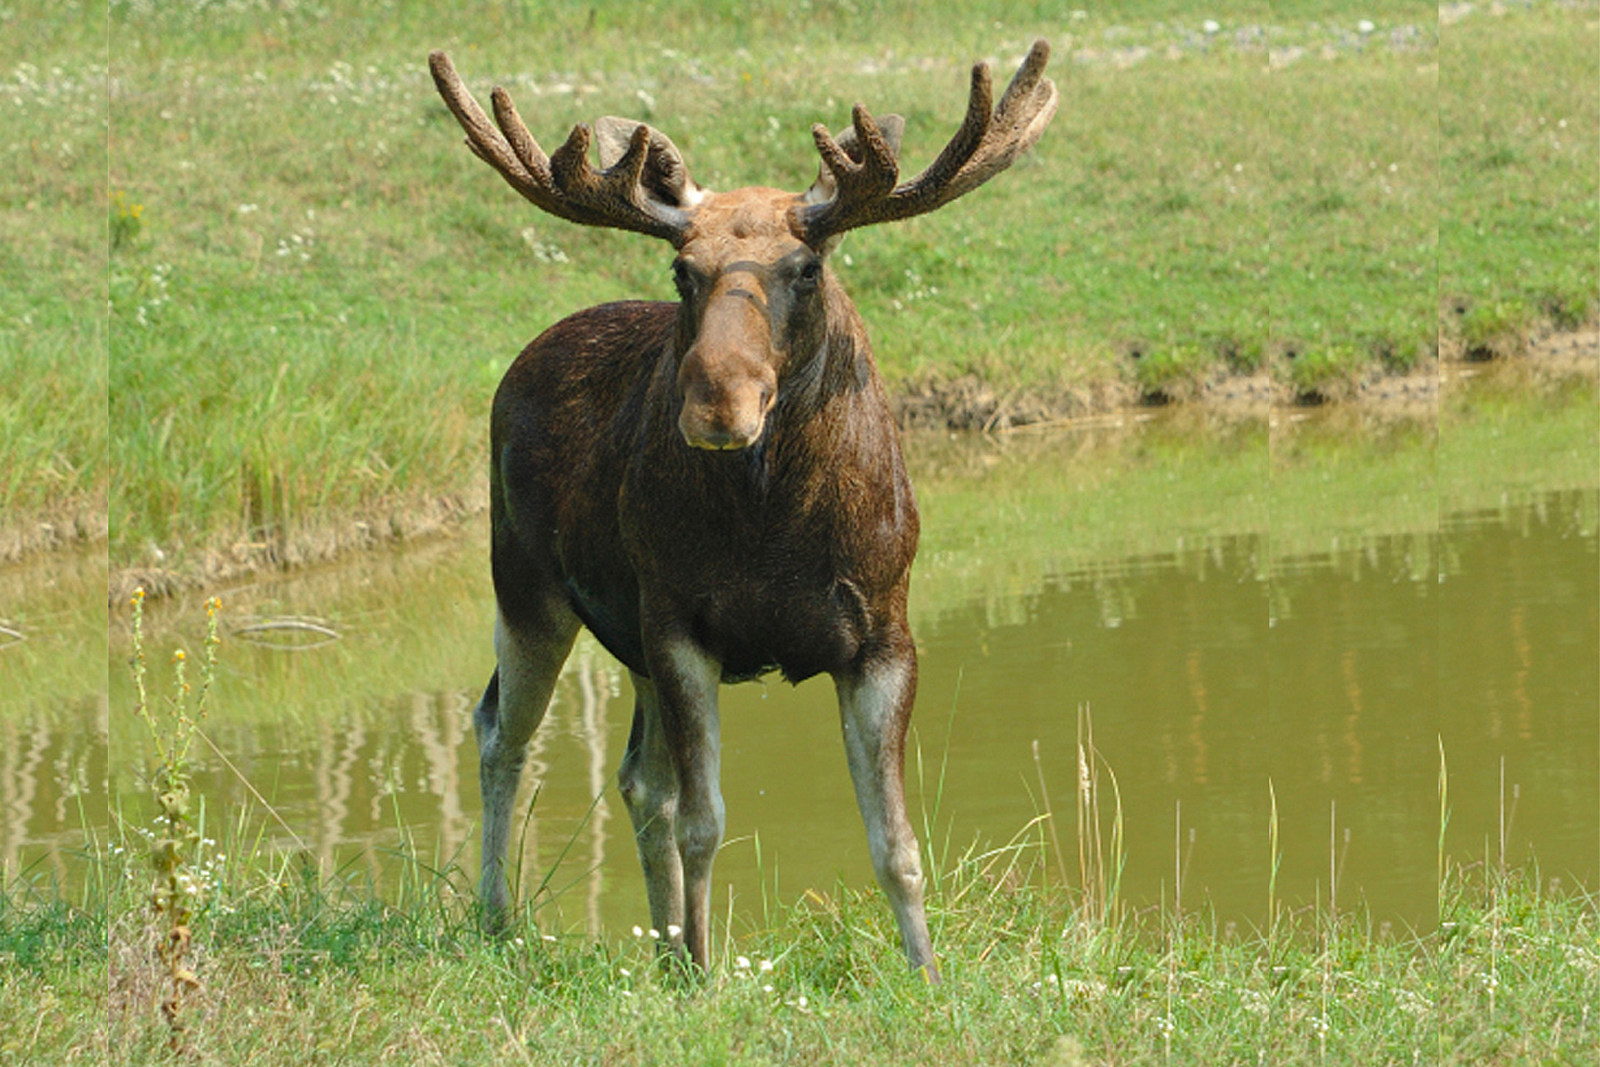moose: (406, 29, 1073, 1003)
